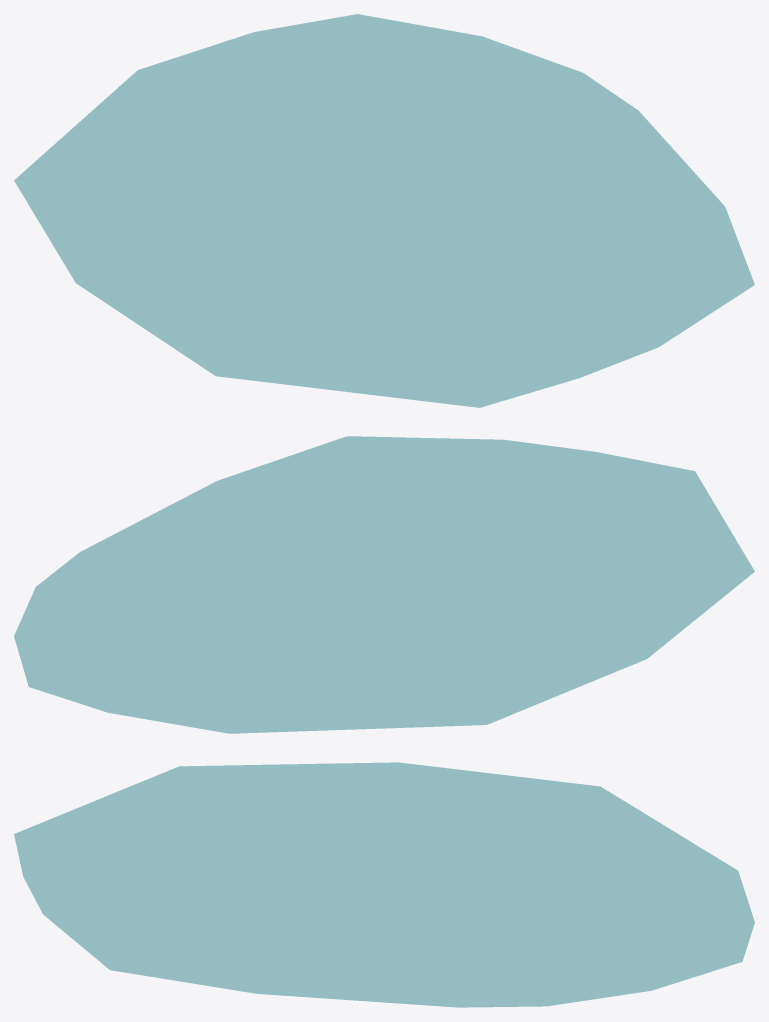
File: Water_Plane_Cave.fbx
3 renders of one model, top to bottom at view 1: azimuth 30°, elevation 25°; view 2: azimuth 150°, elevation 25°; view 3: azimuth 270°, elevation 25°, orthographic. The views are drawn at different scales.
Parts seen in each view (by area): view 1: polySurface679; view 2: polySurface679; view 3: polySurface679.
Part boxes in pixels (<box>): polySurface679: <box>14,14,754,407</box>; polySurface679: <box>14,436,754,733</box>; polySurface679: <box>14,762,754,1007</box>.
Bounding box in the file's own units: 21431 × 0.1433 × 27364.
